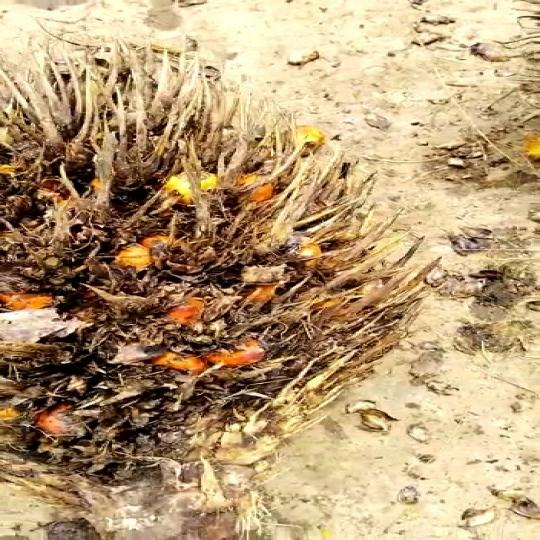terlalu masak: (0, 39, 433, 500)
